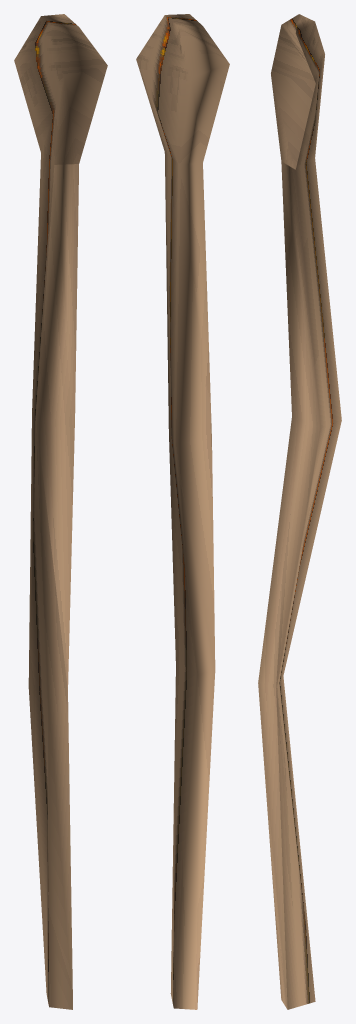
The model's file is actor.obj.
The picture shows the model from 3 angles, left to right: view 1: azimuth 30°, elevation 25°; view 2: azimuth 210°, elevation 25°; view 3: azimuth 330°, elevation 25°; orthographic projection.
Parts seen in each view (by area): view 1: actor; view 2: actor; view 3: actor.
Part boxes in pixels (box(x1,y1,x2,y2)): actor: box(14, 14, 107, 1009); actor: box(136, 14, 229, 1009); actor: box(258, 14, 341, 1009).
Bounding box in the file's own units: 1.15 × 16.57 × 1.12.
Materials: 1 (1 with a texture image).
